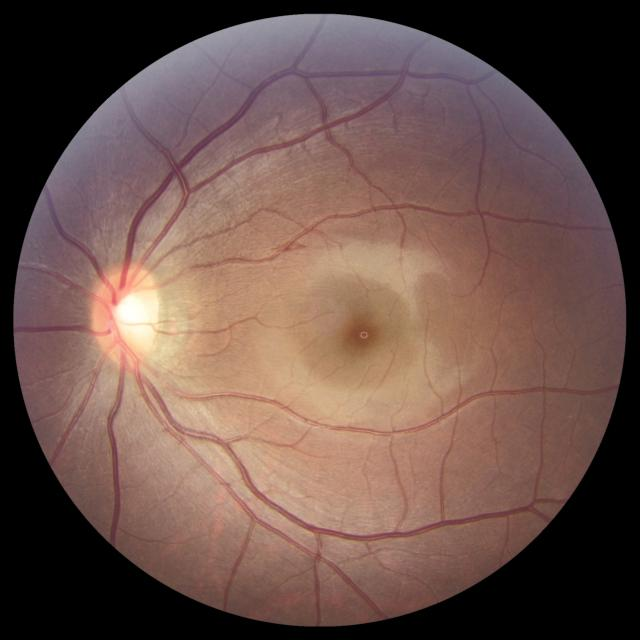OC: (105, 288, 152, 340)
OD: (92, 264, 162, 364)
